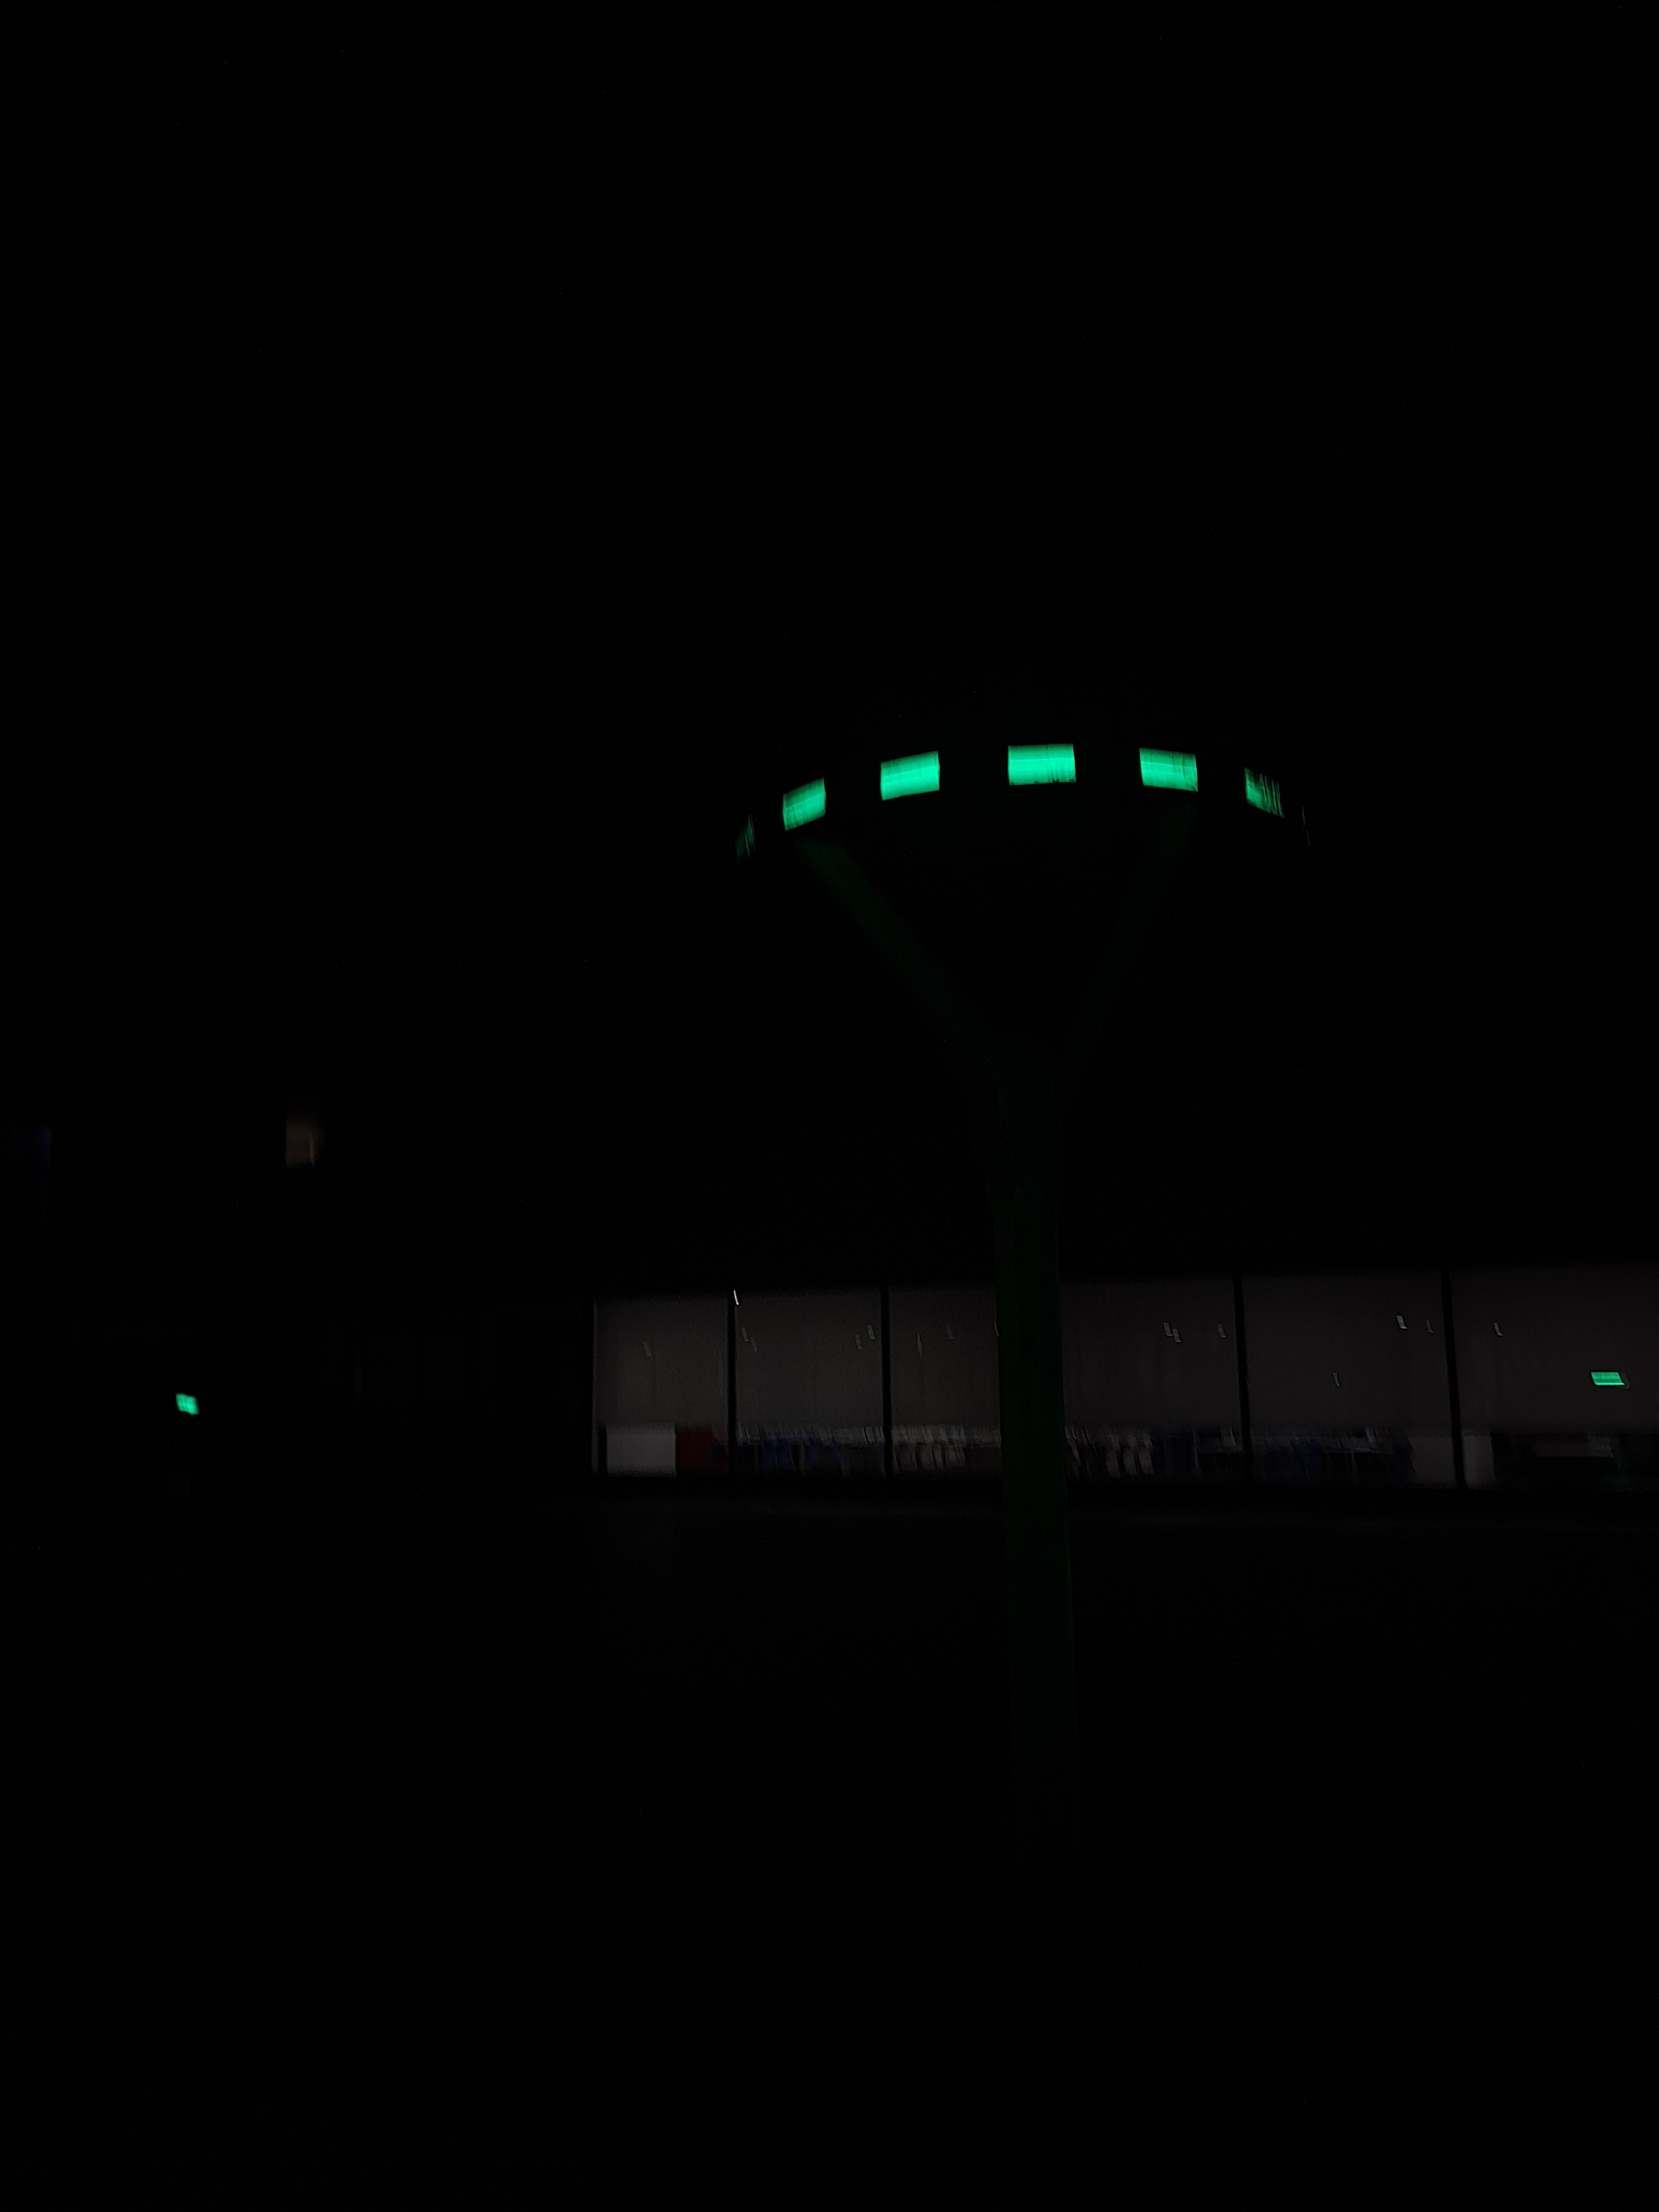hoop: (767, 730, 1293, 841)
